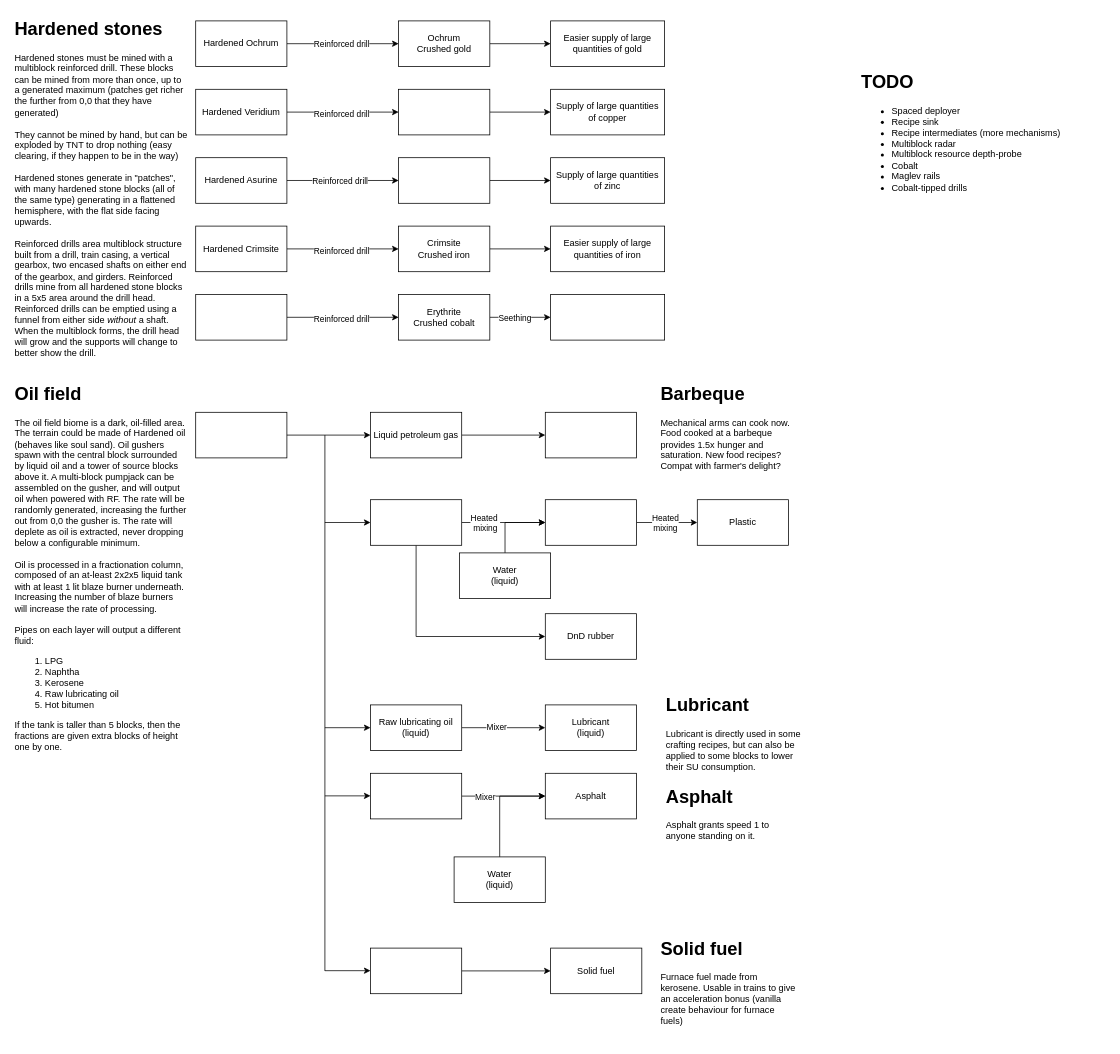
Some shapes in this 1120 by 1054 pixel diagram are drawn without their labels. The shapes that lost their labels are listed below. From the top down, each one's centre as x and y in pixels, then its label:
At (444,112): "Veridium Crushed copper".
At (444,180): "Asurine Crushed zinc".
At (241,317): "Hardened Erythrite (Uncommon)".
At (607,317): "Supply of decent quantities of cobalt. Recipes produce less than other metals.".
At (241,435): "Oil (liquid)".
At (590,435): "Barbeque (used to fuel)".
At (416,522): "Naphtha (liquid)".
At (590,522): "Ethylene (liquid)".
At (416,796): "Hot bitumen (liquid)".
At (416,970): "Kerosene (liquid)".
